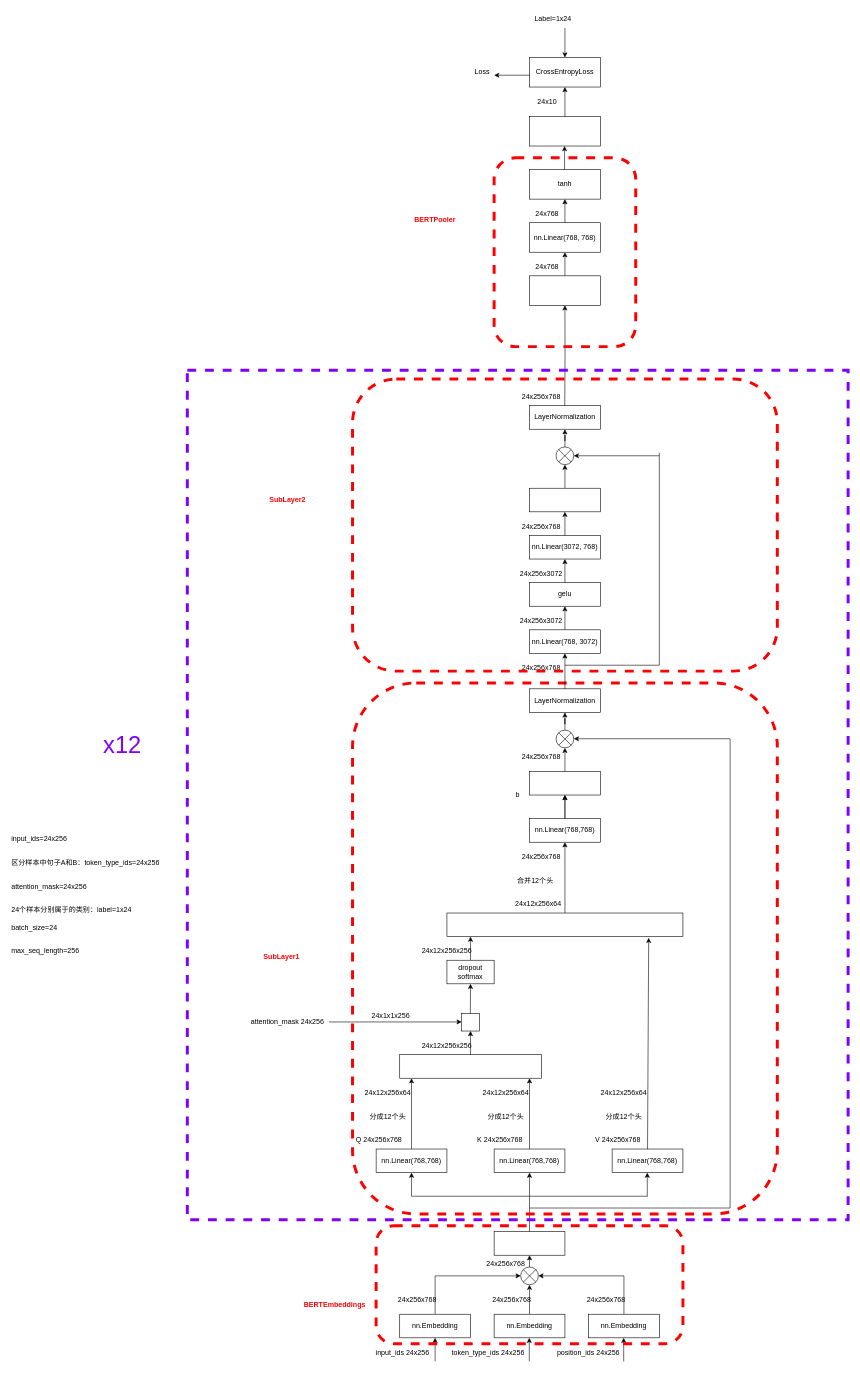
Some shapes in this 860 by 1376 pixel diagram are drawn without their labels. The shapes that lost their labels are listed below. From the top down, each one's centre as x and y in pixels, then its label:
At point 564,131: "nn.Linear(768, 10)".
At point 564,290: "文本分类任务，只取256个token中的第一个token".
At point 564,500: "dropout nn.Linear(3072, 768)".
At point 564,783: "dropout".
At point 564,924: "matmul".
At point 470,1022: "+ broadcasting".
At point 470,1066: "(Q matmul K T )/sqrt(64)".
At point 529,1243: "dropout Layer Normalization".
